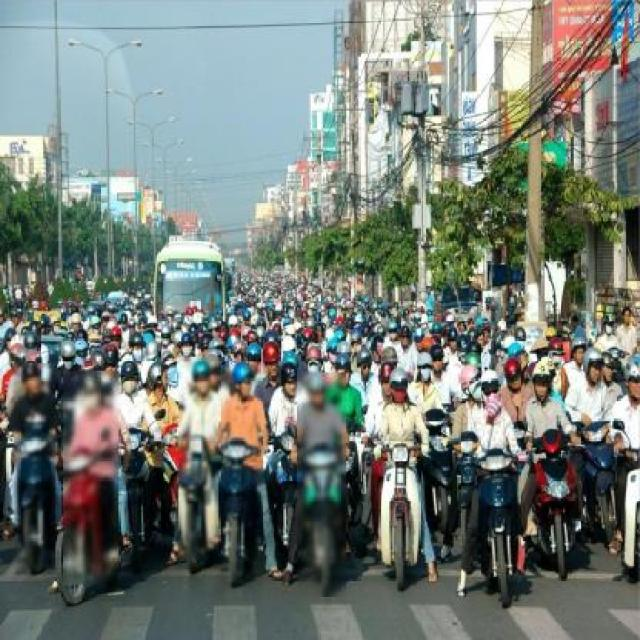helmet: (296, 365, 334, 408), (381, 365, 416, 411), (473, 360, 503, 411), (224, 364, 260, 404), (76, 370, 103, 414), (194, 356, 214, 404)
motorcycle: (35, 368, 133, 595), (456, 369, 539, 602), (290, 367, 361, 586), (164, 354, 233, 566), (216, 369, 275, 576), (379, 377, 431, 576)
